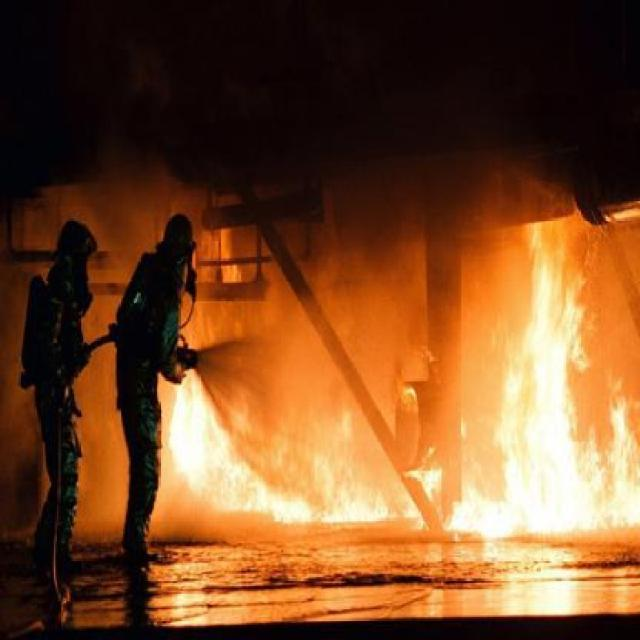Fire: (500, 259, 583, 552), (604, 406, 638, 532), (173, 386, 212, 472), (580, 432, 608, 531), (454, 486, 506, 532), (326, 502, 388, 527), (271, 496, 317, 526), (411, 468, 442, 496), (212, 428, 230, 476), (402, 500, 424, 525), (190, 474, 203, 489)
